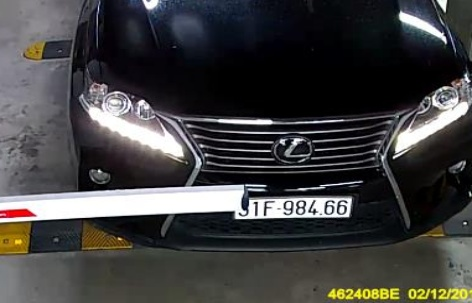plate: (232, 195, 354, 222)
